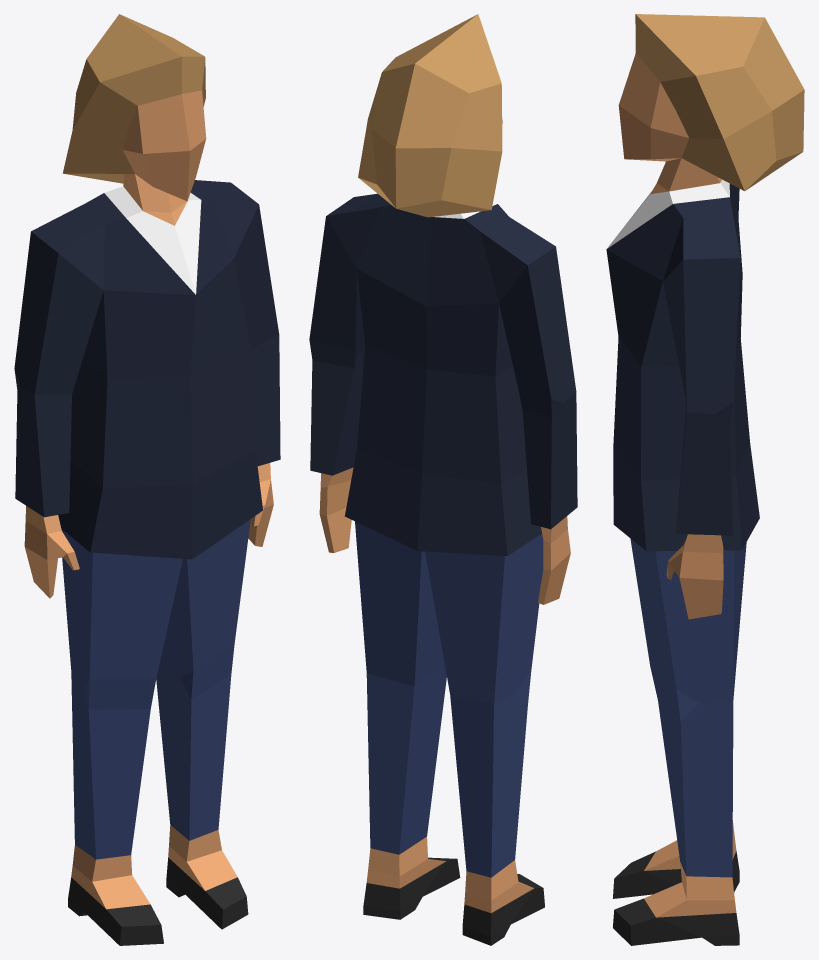
The model's file is woman-suit.glb.
The picture shows the model from 3 angles, left to right: view 1: azimuth 30°, elevation 25°; view 2: azimuth 150°, elevation 25°; view 3: azimuth 270°, elevation 25°; orthographic projection. The views are drawn at different scales.
Parts seen in each view (by area): view 1: woman-suit; view 2: woman-suit; view 3: woman-suit.
Boxes of the visible parts, box(x1,y1,x2,y2) form: woman-suit: box(14, 14, 280, 945); woman-suit: box(309, 14, 577, 945); woman-suit: box(606, 14, 804, 945).
Size of the model in its own units: 0.5502 by 1.86 by 0.3704.
Materials: 1 (1 with a texture image).
